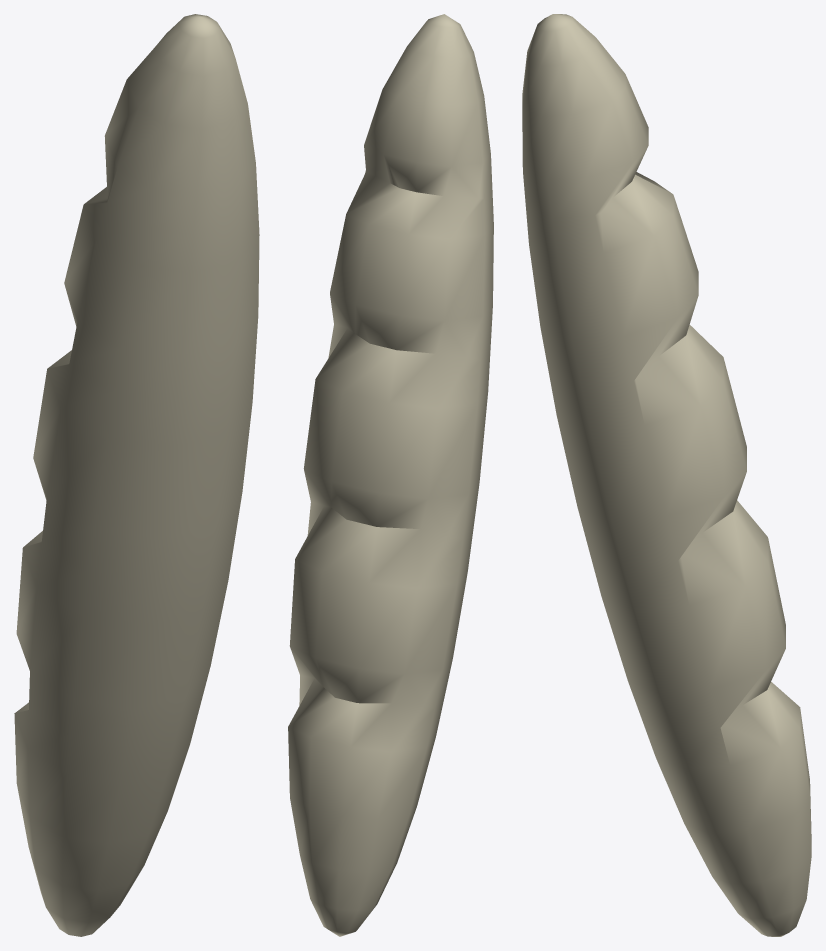
File: Bread.fbx
3 views of the same model, side by side, from view 1: azimuth 30°, elevation 25°; view 2: azimuth 150°, elevation 25°; view 3: azimuth 270°, elevation 25° (orthographic). The views are drawn at different scales.
Visible parts, largest first — view 1: Bread; view 2: Bread; view 3: Bread.
Boxes of the visible parts, <box> form: Bread: <box>14,14,259,936</box>; Bread: <box>288,14,493,936</box>; Bread: <box>522,14,811,936</box>.
Bounding box in the file's own units: 0.2263 × 1.19 × 0.3386.
